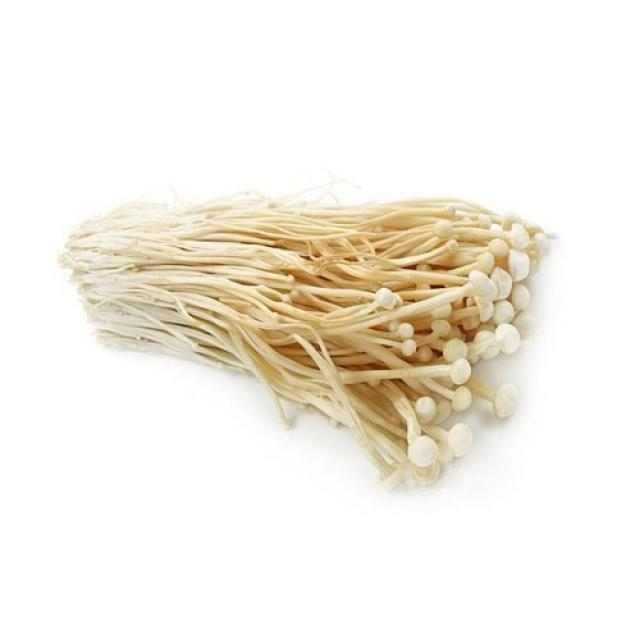Flammulina velutiper: (64, 186, 549, 489)
